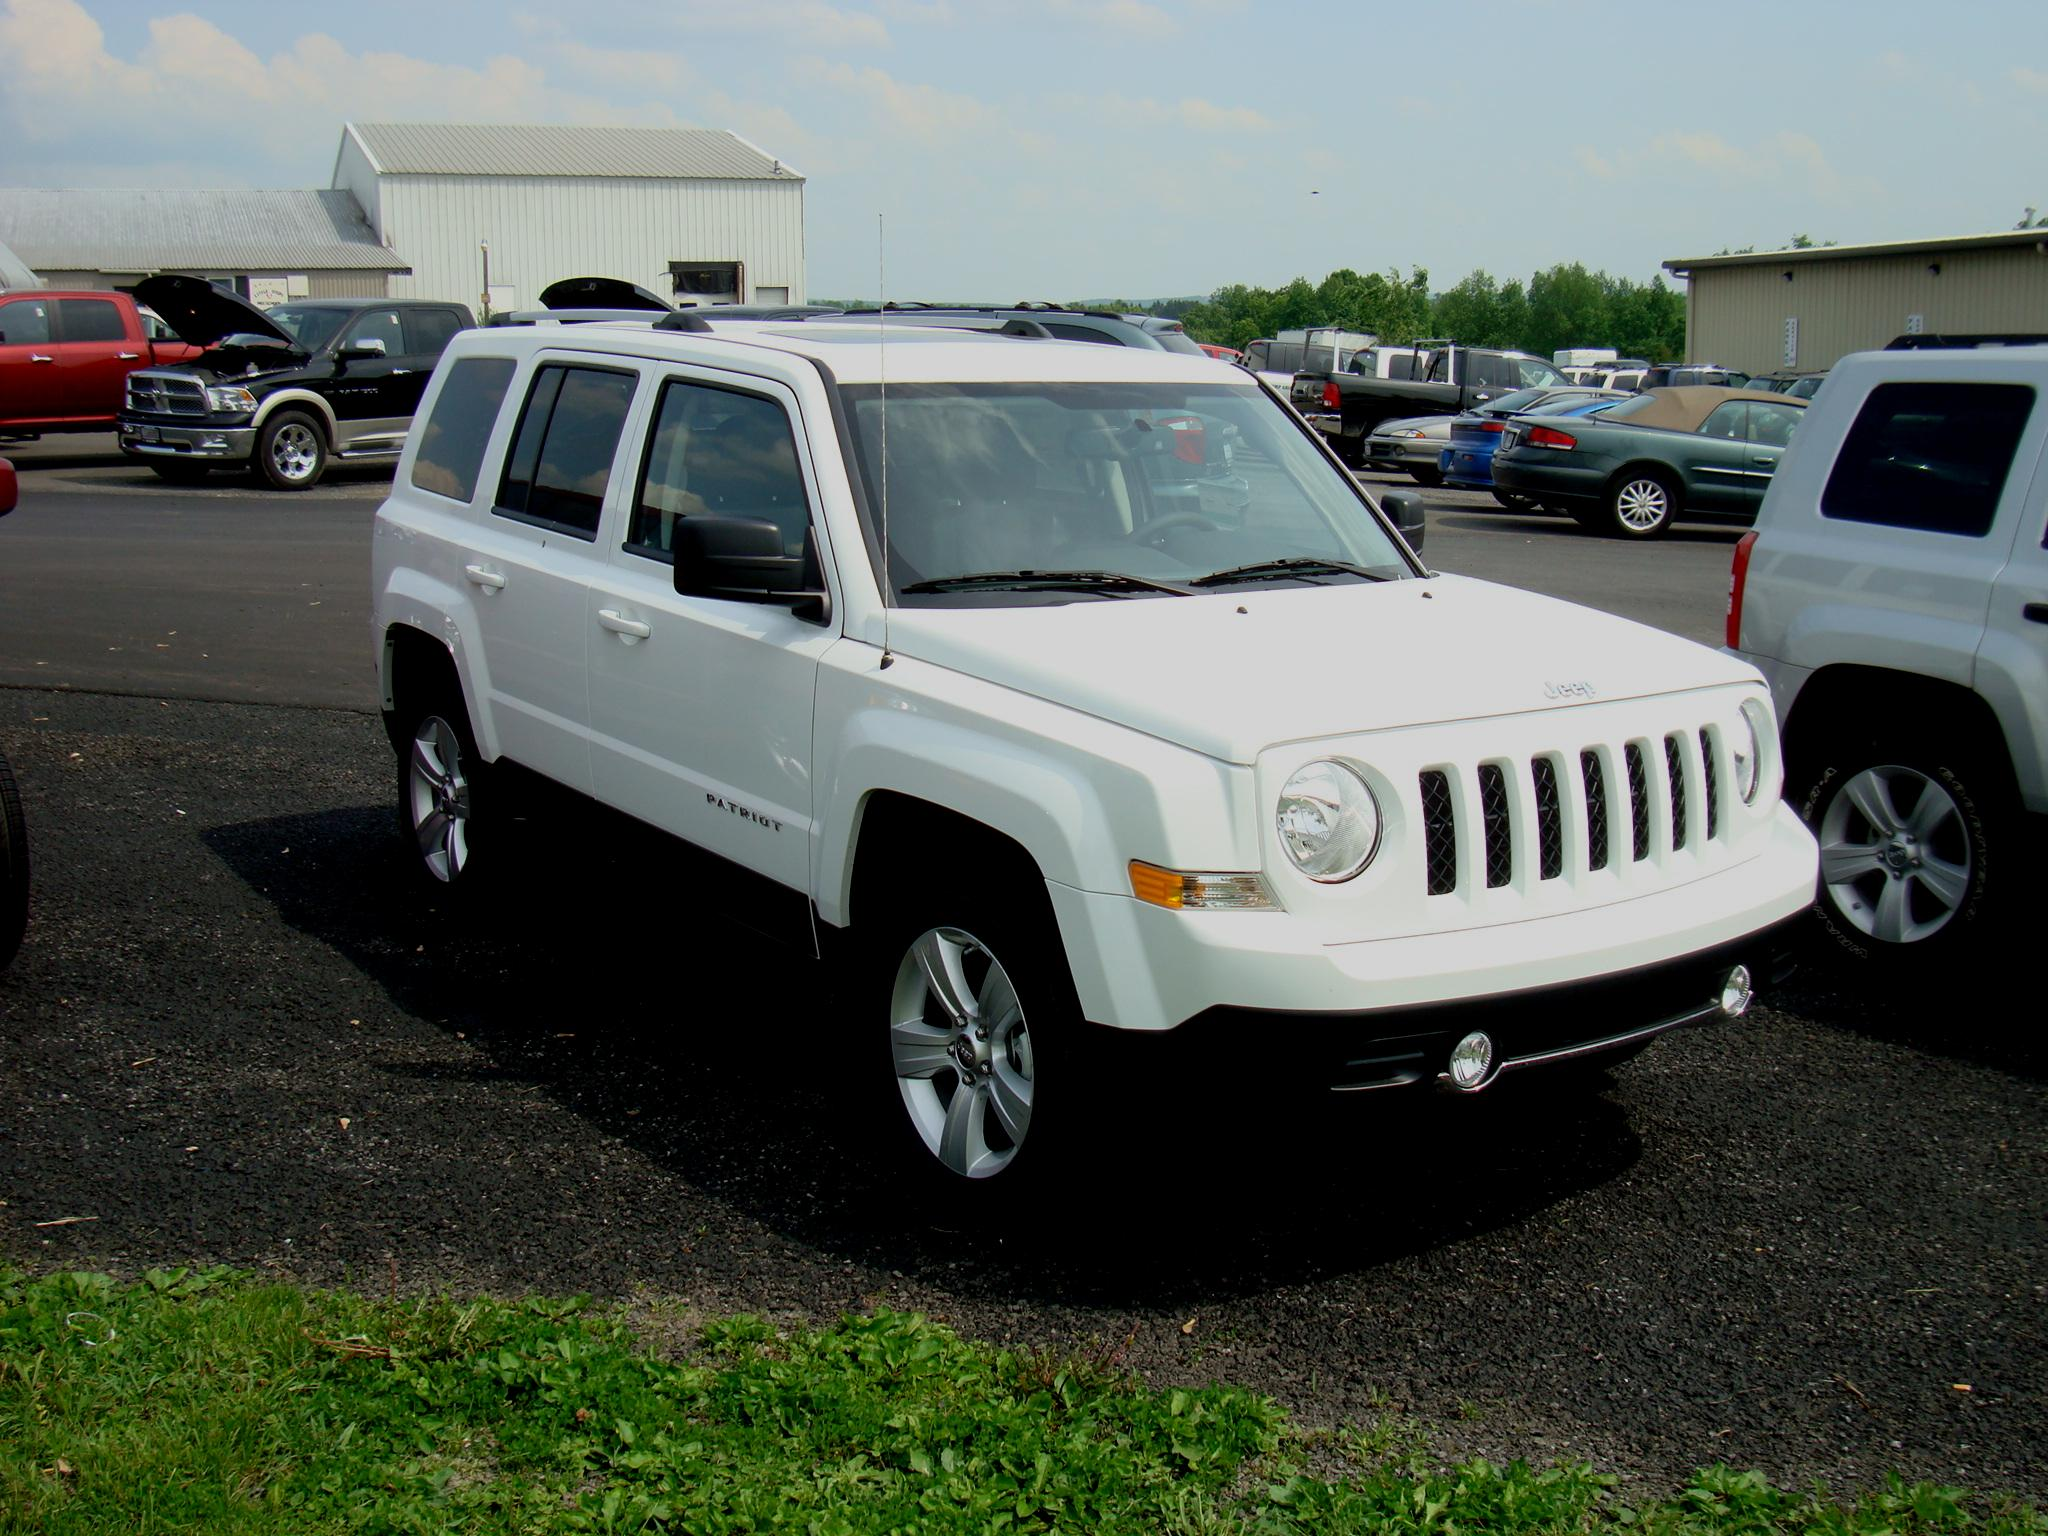jeep: (1514, 653, 1614, 718)
